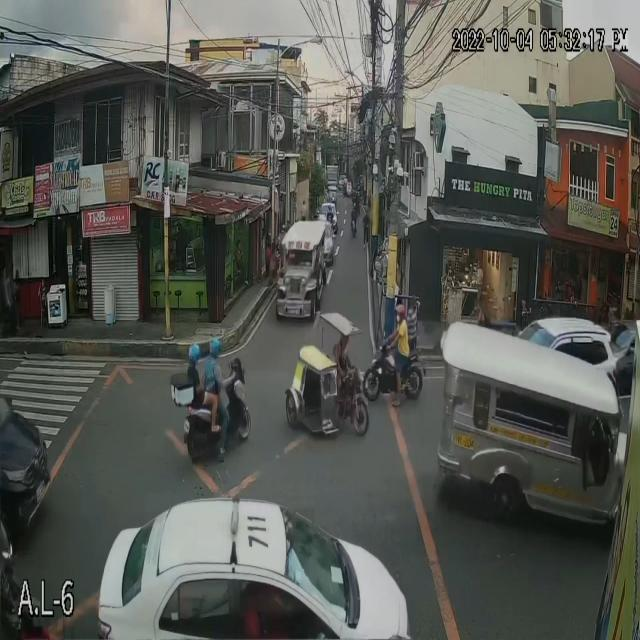Full-Faced: (183, 337, 205, 368), (205, 332, 222, 360), (390, 302, 406, 328), (351, 197, 357, 211)
